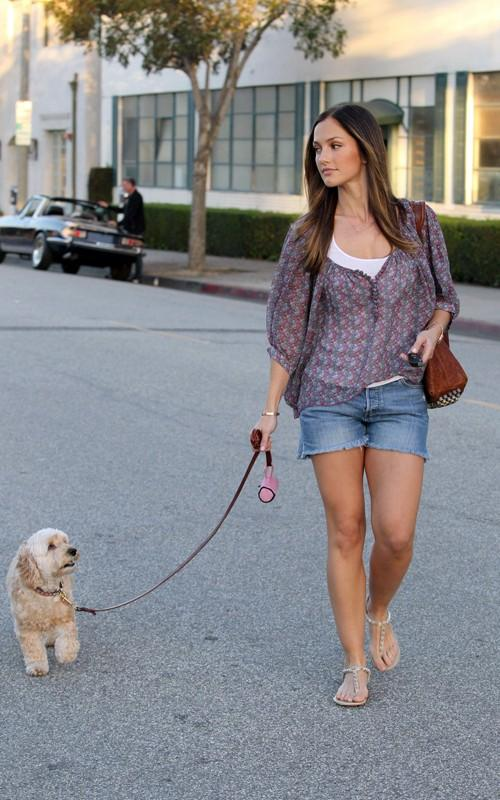person: (255, 109, 455, 708)
